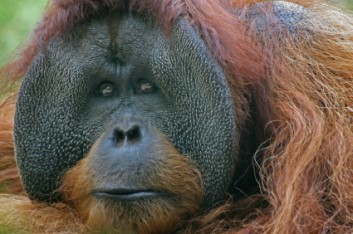Orangutan: (7, 3, 329, 219)
